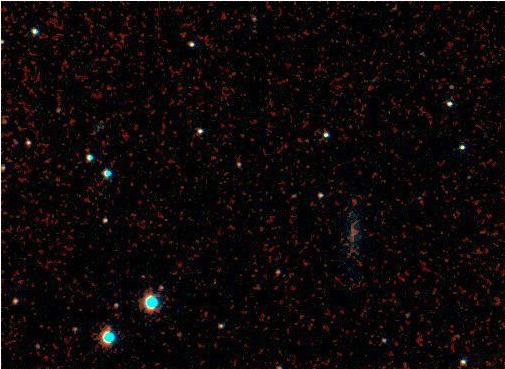star: (129, 256, 159, 286)
